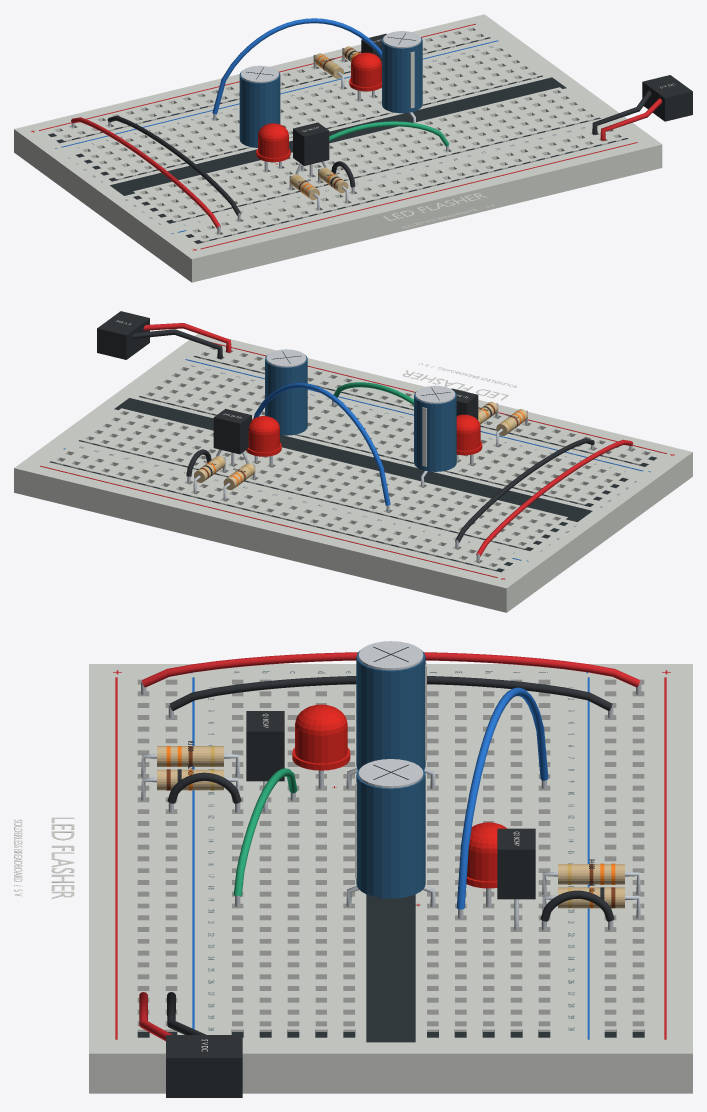
The model's file is LED_Flasher_Breadboard.glb.
3 renders of one model, top to bottom at view 1: azimuth 30°, elevation 25°; view 2: azimuth 150°, elevation 25°; view 3: azimuth 270°, elevation 25°, orthographic. The views are drawn at different scales.
Parts seen in each view (by area): view 1: 420 socket openings, Breadboard base, Center channel, C2 100uF body, C1 100uF body, External supply connector, Q1 BC547 TO92, C1 minus to Q2 base, Positive rail bridge, Ground rail bridge, C2 minus to Q1 base, Rail color stripe (+13 smaller); view 2: 420 socket openings, Breadboard base, Center channel, C1 100uF body, C2 100uF body, External supply connector, Q2 BC547 TO92, C1 minus to Q2 base, Positive rail bridge, Ground rail bridge, Rail color stripe.003, Dark well strip R+ (+12 smaller); view 3: 420 socket openings, Breadboard base, C2 100uF body, Center channel, C1 100uF body, External supply connector, Positive rail bridge, Ground rail bridge, C1 minus to Q2 base, Q2 BC547 TO92, Q1 BC547 TO92, C1 aluminum top (+17 smaller).
Part boxes in pixels (box(x1,y1,x2,y2)): 420 socket openings: box(48, 25, 628, 242); Breadboard base: box(14, 14, 662, 282); Center channel: box(110, 77, 566, 195); C2 100uF body: box(382, 36, 422, 113); C1 100uF body: box(239, 71, 280, 147); External supply connector: box(642, 75, 692, 121); Q1 BC547 TO92: box(293, 122, 329, 165); C1 minus to Q2 base: box(212, 18, 381, 114); Positive rail bridge: box(71, 117, 220, 228); Ground rail bridge: box(107, 116, 241, 215); C2 minus to Q1 base: box(329, 121, 449, 146); Rail color stripe: box(200, 142, 637, 249); 420 socket openings: box(50, 345, 656, 570); Breadboard base: box(14, 333, 692, 612); Center channel: box(114, 398, 592, 521); C1 100uF body: box(414, 391, 456, 471); C2 100uF body: box(265, 355, 307, 435); External supply connector: box(97, 311, 149, 359); Q2 BC547 TO92: box(213, 408, 251, 454); C1 minus to Q2 base: box(253, 383, 390, 505); Positive rail bridge: box(476, 439, 633, 556); Ground rail bridge: box(455, 438, 594, 542); Rail color stripe.003: box(40, 465, 497, 577); Dark well strip R+: box(49, 461, 504, 572); 420 socket openings: box(129, 676, 652, 1031); Breadboard base: box(89, 664, 692, 1093); C2 100uF body: box(356, 767, 425, 898); Center channel: box(366, 894, 415, 1042); C1 100uF body: box(356, 650, 425, 769); External supply connector: box(166, 1035, 242, 1097); Positive rail bridge: box(141, 652, 640, 687); Ground rail bridge: box(169, 676, 612, 710); C1 minus to Q2 base: box(456, 687, 548, 909); Q2 BC547 TO92: box(497, 828, 535, 899); Q1 BC547 TO92: box(246, 711, 284, 781); C1 aluminum top: box(358, 641, 423, 670).
Size of what is drawn, in the model's own units: 93.5 by 19.96 by 61.84.
